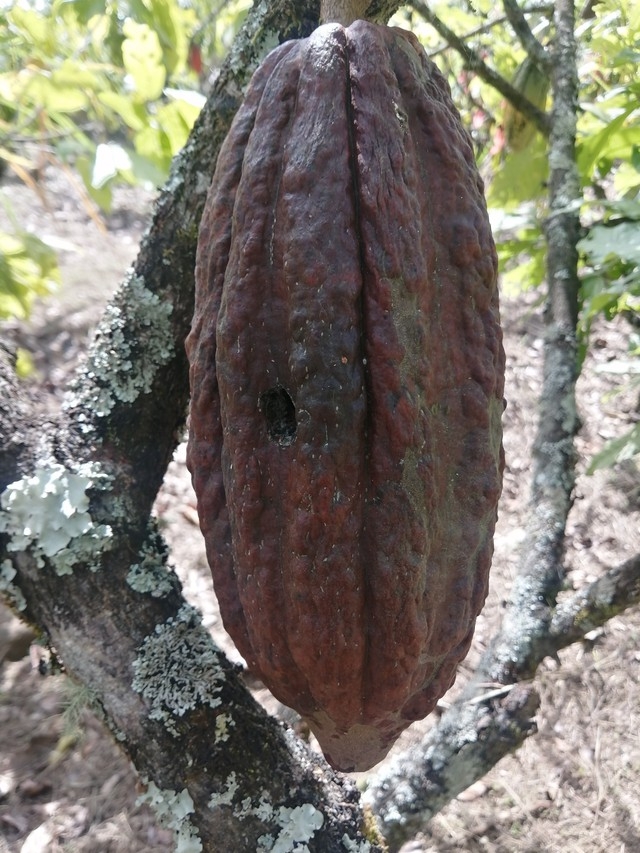carmenta foraseminis: (181, 8, 506, 777)
